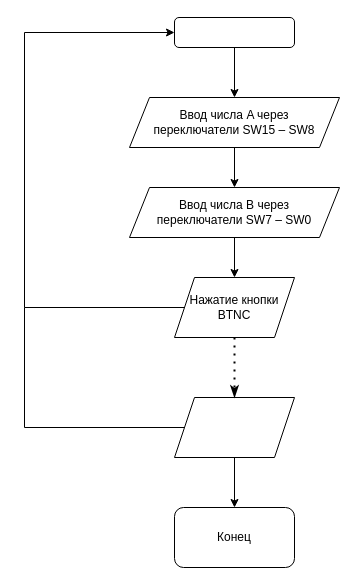
Image size: 357x585. Some labels were removed from this diagram. Each missing label, with the centre of its shape:
Нажатие кнопки RST: pixel 234 427
Начало: pixel 234 32
